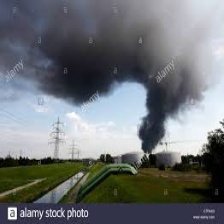smoke: (11, 3, 217, 155)
